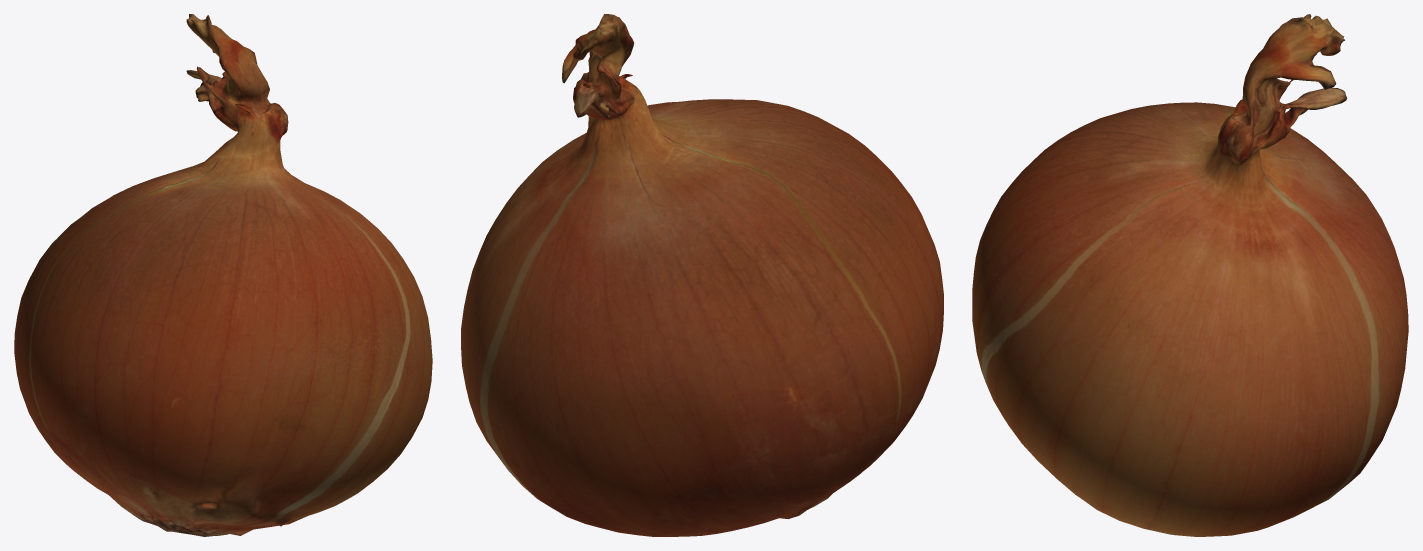
The model's file is onion.glb.
The picture shows the model from 3 angles, left to right: view 1: azimuth 30°, elevation 25°; view 2: azimuth 150°, elevation 25°; view 3: azimuth 270°, elevation 25°; orthographic projection. The views are drawn at different scales.
Parts seen in each view (by area): view 1: yellow_onion; view 2: yellow_onion; view 3: yellow_onion.
Part boxes in pixels (bbox=[...]): yellow_onion: bbox=[14, 14, 432, 536]; yellow_onion: bbox=[461, 14, 943, 536]; yellow_onion: bbox=[972, 14, 1408, 536].
Size of the model in its own units: 0.0923 by 0.11 by 0.0874.
1 material, 1 textured.
